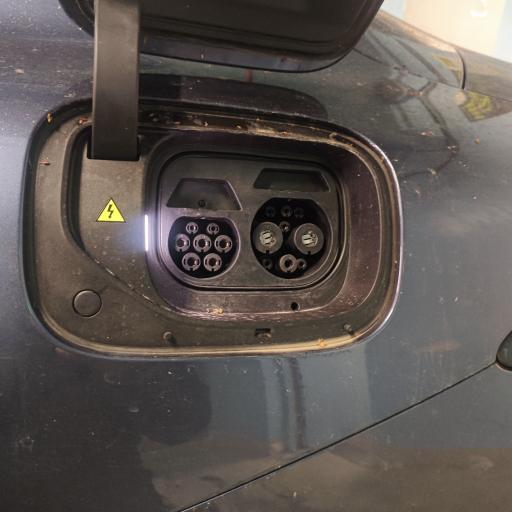AC_charging_hole: (166, 213, 243, 282)
DC_charging_port: (248, 194, 336, 284)
DC_hole: (292, 221, 326, 256), (252, 221, 285, 257)
PE: (278, 253, 300, 276)
